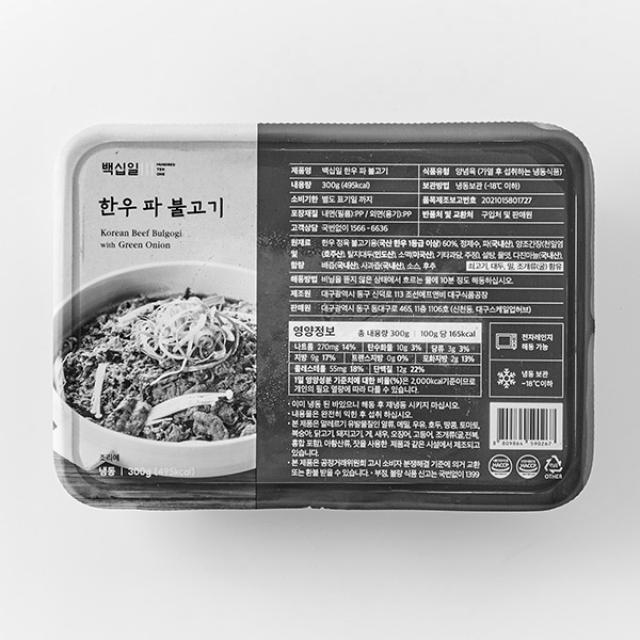Nutrition Label: (286, 317, 486, 401)
